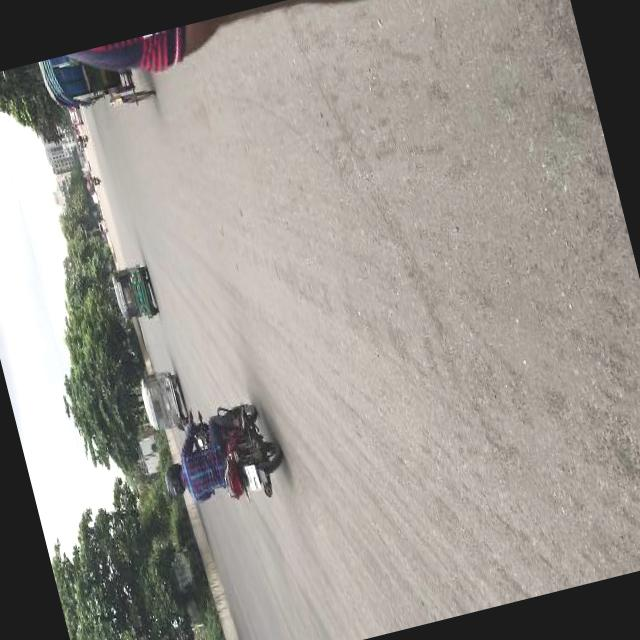car: (66, 102, 82, 124), (90, 190, 98, 202), (82, 159, 88, 170)
motorcycle: (172, 388, 292, 514), (36, 34, 154, 112), (106, 256, 160, 322), (136, 364, 187, 422), (85, 172, 98, 184), (75, 132, 87, 140), (77, 140, 84, 144)
truck: (96, 217, 106, 230)
